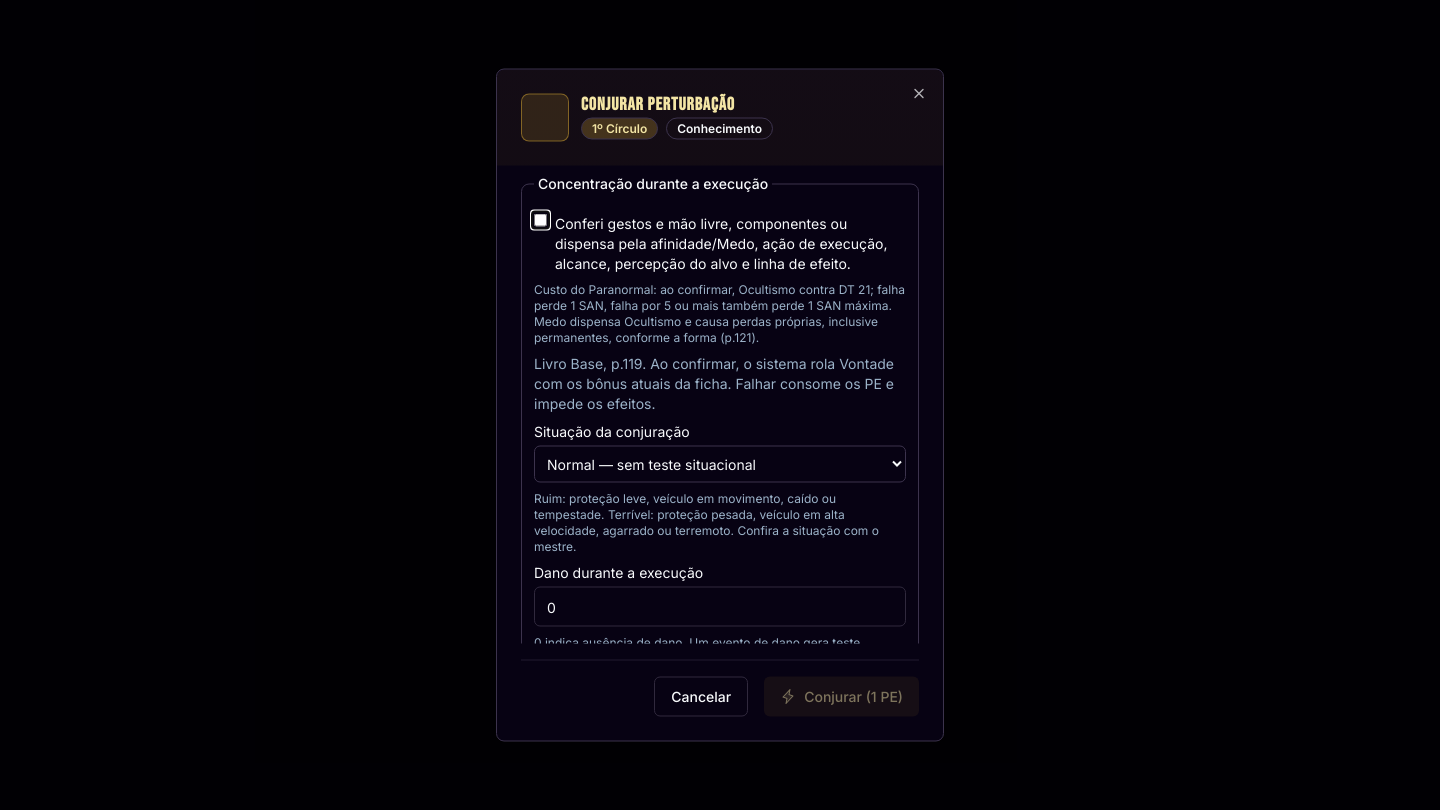
Test case: Modal de conjuração desktop › recusa dano negativo antes de enviar a conjuração
Click the checkbox labelled "Conferi gestos" at x=540, y=220, box [534,214,547,226]
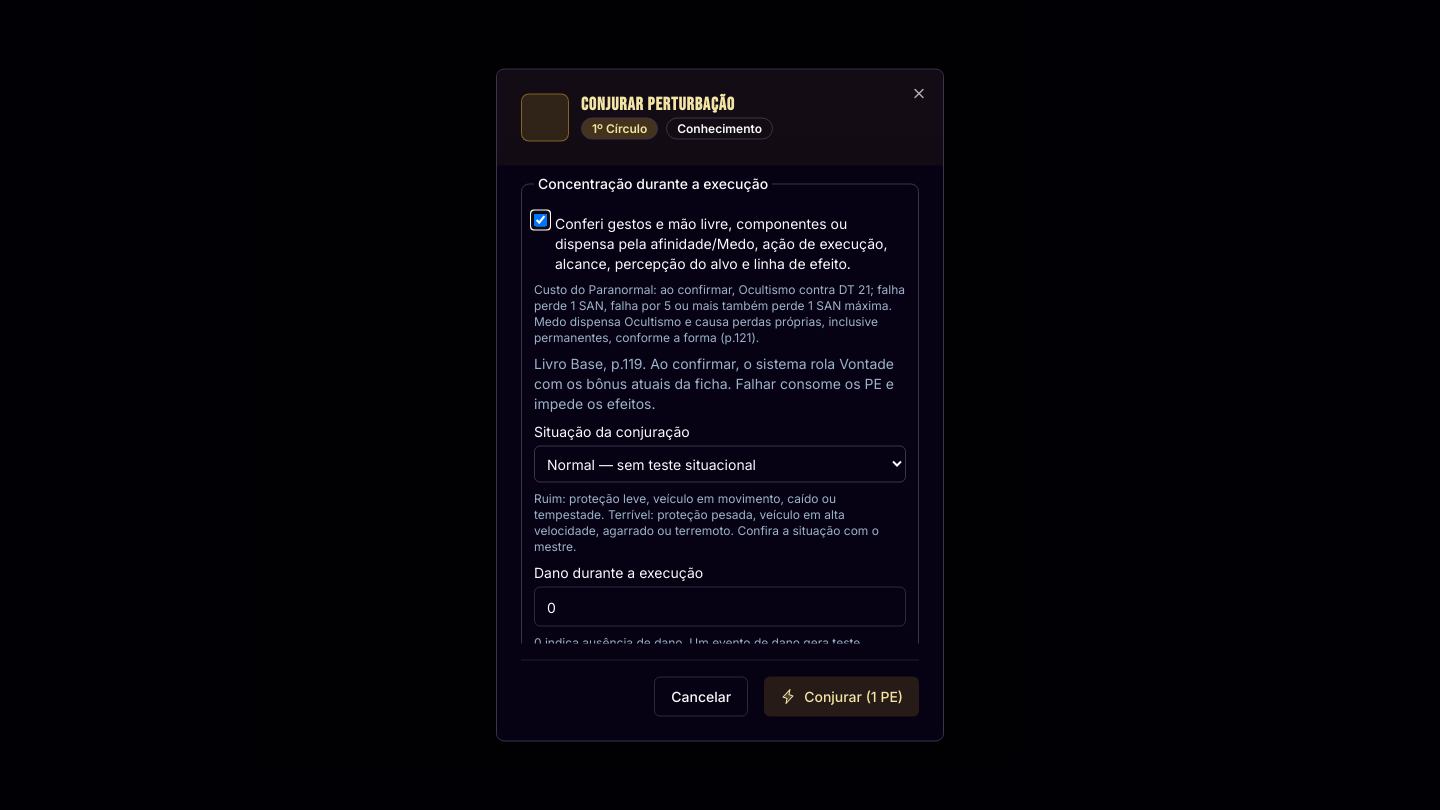
Replace the text in the number field labelled "Dano durante a execução" with "-1" at x=720, y=606, box [534,586,906,626]
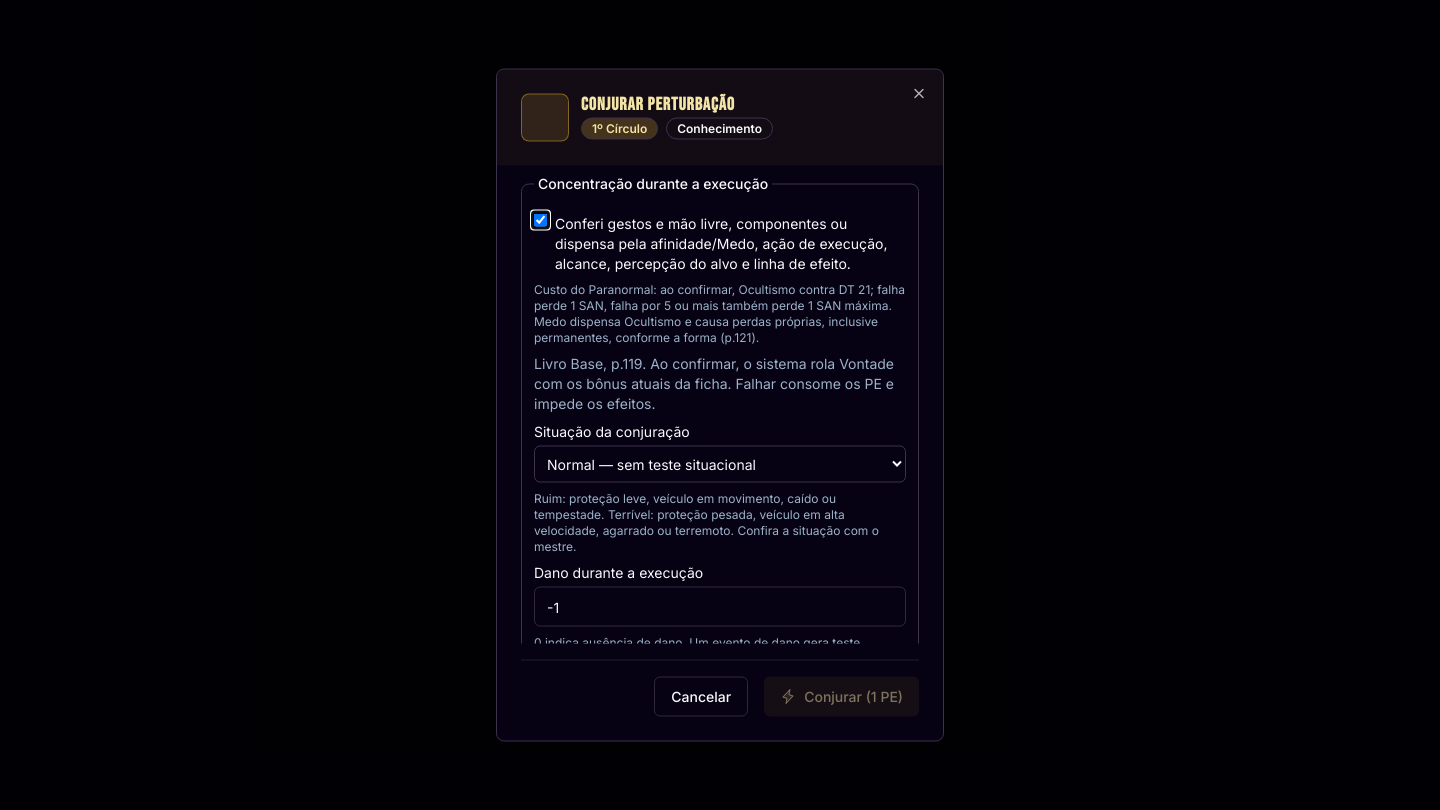
Now the button "Conjurar (1 PE)" is disabled, box [764,676,919,716]
